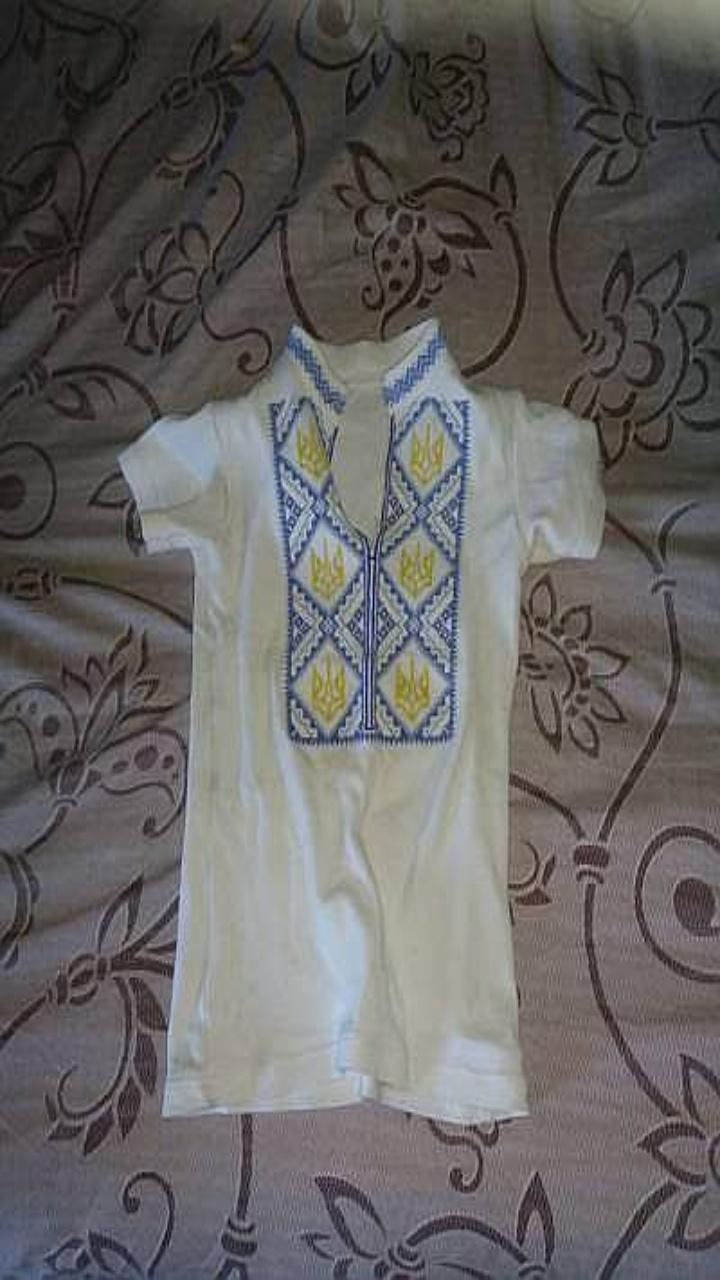T-Shirt: (119, 318, 604, 1121)
